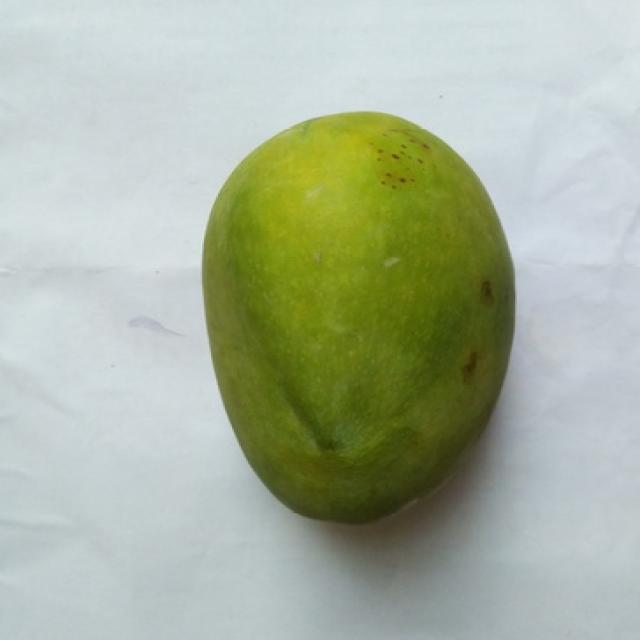Mango: (202, 113, 513, 522)
